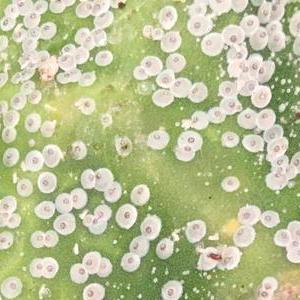Femea: (118, 209, 133, 230), (143, 218, 158, 237), (255, 87, 269, 107), (132, 236, 146, 255), (10, 92, 24, 110), (266, 140, 285, 153), (159, 9, 175, 24), (42, 260, 57, 276), (57, 54, 74, 68), (222, 29, 239, 43), (251, 28, 265, 45), (1, 111, 18, 125), (100, 186, 118, 199), (75, 264, 87, 283), (239, 110, 254, 125), (26, 154, 42, 168), (241, 15, 255, 31), (79, 169, 92, 186), (93, 168, 105, 186), (149, 133, 164, 147), (223, 174, 237, 189), (256, 112, 271, 126), (121, 254, 135, 269), (28, 260, 42, 275), (86, 285, 101, 299), (258, 57, 267, 80), (39, 175, 51, 192), (245, 135, 259, 149), (268, 34, 282, 48), (162, 285, 176, 299), (169, 57, 184, 70), (163, 34, 178, 47), (204, 37, 217, 52), (90, 218, 105, 231), (190, 84, 203, 98), (16, 182, 30, 195), (69, 191, 81, 206), (57, 194, 69, 209), (0, 197, 10, 215), (95, 206, 110, 218), (85, 255, 97, 270), (180, 133, 196, 144), (178, 146, 195, 156), (247, 57, 257, 74), (171, 79, 184, 92), (193, 19, 206, 32), (157, 242, 170, 255), (141, 58, 155, 70), (37, 202, 51, 214), (222, 97, 236, 109), (222, 81, 234, 95), (219, 132, 234, 143), (45, 145, 55, 161), (59, 42, 73, 53), (132, 187, 146, 198), (7, 280, 18, 294), (0, 231, 9, 248), (210, 108, 222, 120), (25, 117, 37, 129), (267, 127, 278, 140), (2, 129, 14, 140), (0, 17, 10, 30), (192, 113, 202, 125), (4, 151, 12, 165), (267, 21, 278, 31), (75, 48, 82, 62), (29, 93, 39, 102), (21, 83, 32, 90)
Linfa: (146, 261, 158, 274), (190, 283, 199, 296), (180, 268, 191, 277), (151, 275, 161, 284), (110, 239, 118, 245)
Macho: (53, 145, 67, 160), (205, 232, 222, 242), (78, 206, 89, 220), (71, 241, 80, 256), (12, 19, 22, 32), (10, 173, 17, 183)
